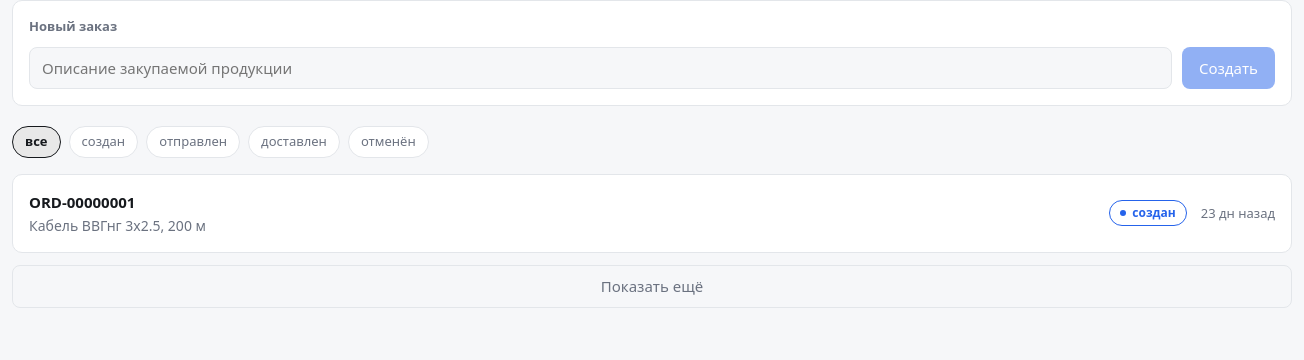
the orders list › offers more only while the server says there is more
The width and height of the screenshot is (1304, 360).
Click the button "Показать ещё" at (652, 286), box [12, 265, 1292, 308]
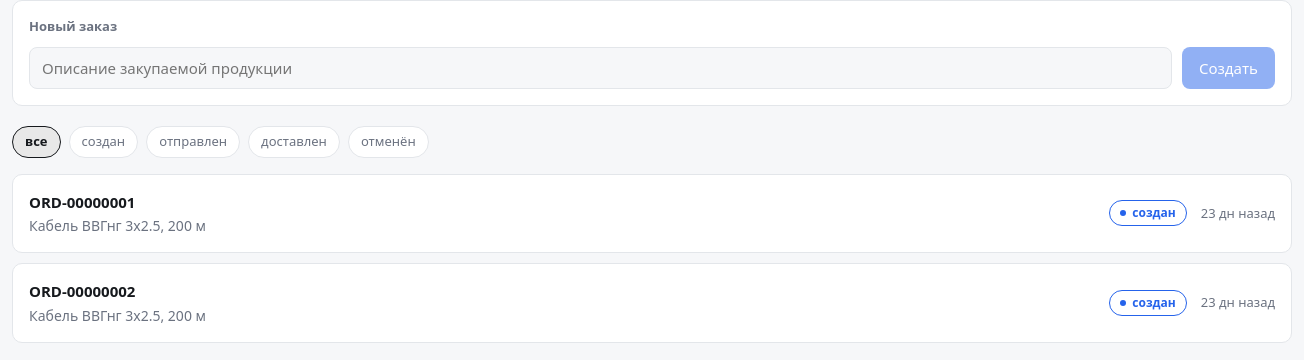
Expected: the link "ORD-00000002" is shown, [29, 281, 135, 301]
Expected: the button "Показать ещё" is gone
